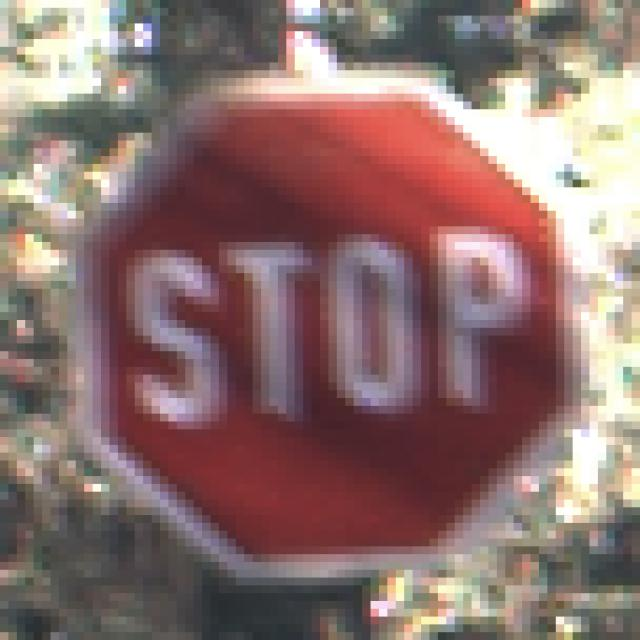STOP: (60, 64, 590, 587)
